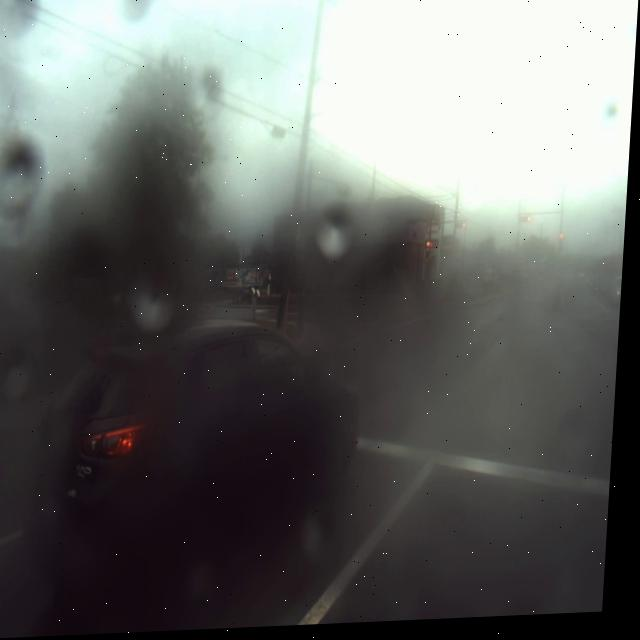car: (67, 304, 369, 574)
